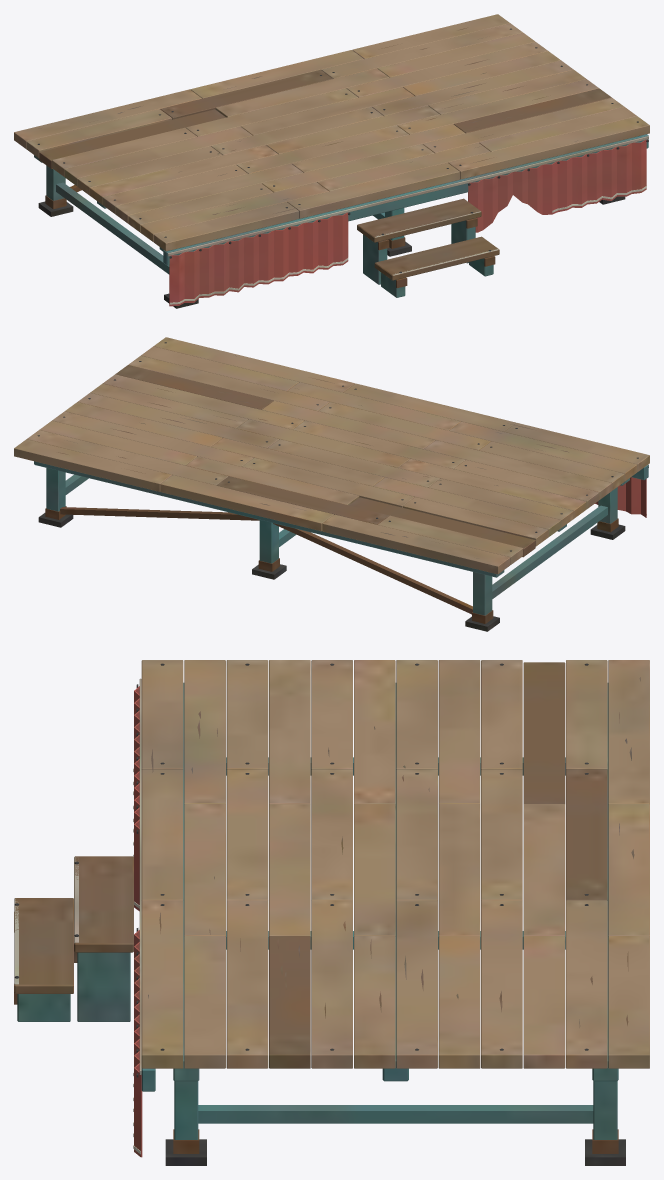
File: SE08_assembly_stage.glb
The picture shows the model from 3 angles, top to bottom: view 1: azimuth 30°, elevation 25°; view 2: azimuth 150°, elevation 25°; view 3: azimuth 270°, elevation 25°; orthographic projection. The views are drawn at different scales.
Parts seen in each view (by area): view 1: Rubber foot; view 2: Rubber foot; view 3: Rubber foot.
Part boxes in pixels (x1=…): Rubber foot: x1=14, y1=14, x2=649, y2=308; Rubber foot: x1=14, y1=337, x2=649, y2=631; Rubber foot: x1=14, y1=660, x2=649, y2=1165.
Size of the model in its own units: 5 by 0.7426 by 3.4.
Materials: 9 (9 with a texture image).
